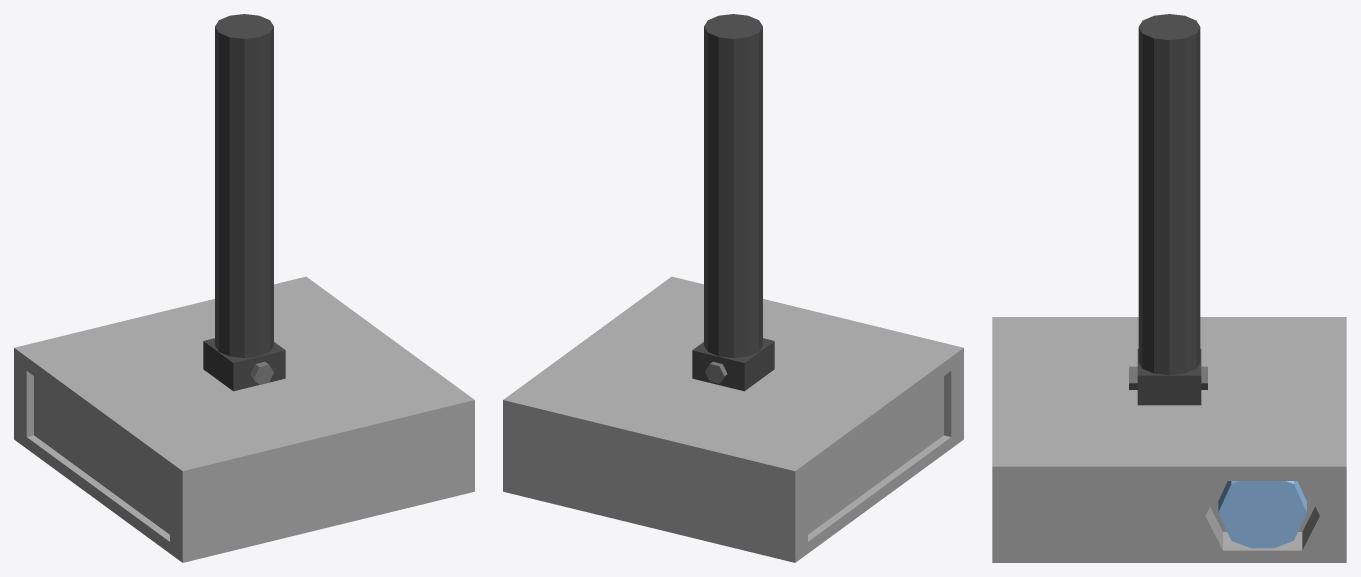
Rendered from projetor.dae.
3 views of the same model, side by side, from view 1: azimuth 30°, elevation 25°; view 2: azimuth 150°, elevation 25°; view 3: azimuth 270°, elevation 25° (orthographic). The views are drawn at different scales.
Visible parts, largest first — view 1: Corpo, Haste, Alça; view 2: Corpo, Haste, Alça; view 3: Corpo, Haste, Lente, Alça.
Boxes of the visible parts, bbox=[...] form: Corpo: bbox=[14, 276, 474, 562]; Haste: bbox=[215, 14, 273, 357]; Alça: bbox=[203, 338, 285, 391]; Corpo: bbox=[503, 276, 963, 562]; Haste: bbox=[704, 14, 762, 357]; Alça: bbox=[692, 338, 774, 391]; Corpo: bbox=[992, 317, 1346, 562]; Haste: bbox=[1138, 14, 1200, 375]; Lente: bbox=[1218, 481, 1306, 548]; Alça: bbox=[1137, 348, 1201, 405].
Size of the model in its own units: 0.4 by 0.4 by 0.5745.
